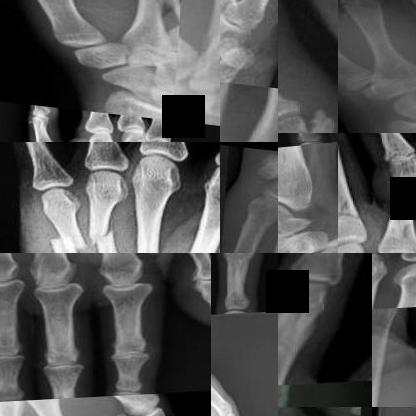fracture: (45, 215, 97, 252), (88, 212, 134, 252), (278, 104, 337, 133), (120, 0, 186, 25), (190, 0, 220, 49), (338, 190, 364, 234), (376, 119, 415, 133), (278, 386, 304, 407)
